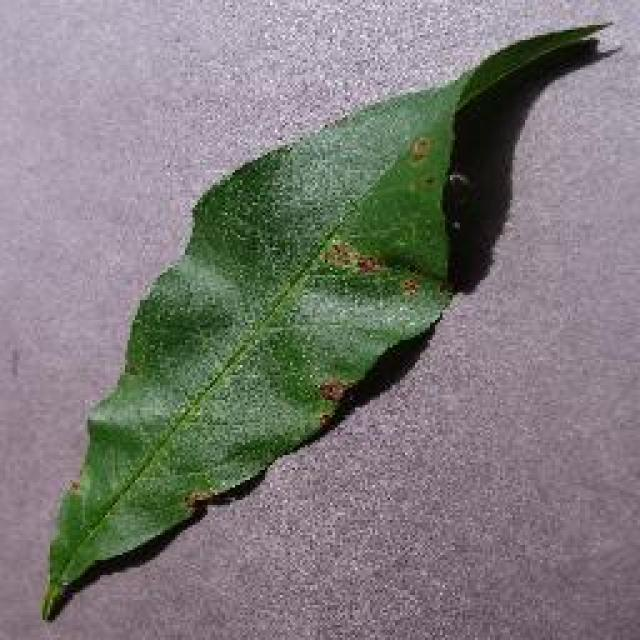Peach_Bacterial_Spot: (208, 188, 415, 504)
